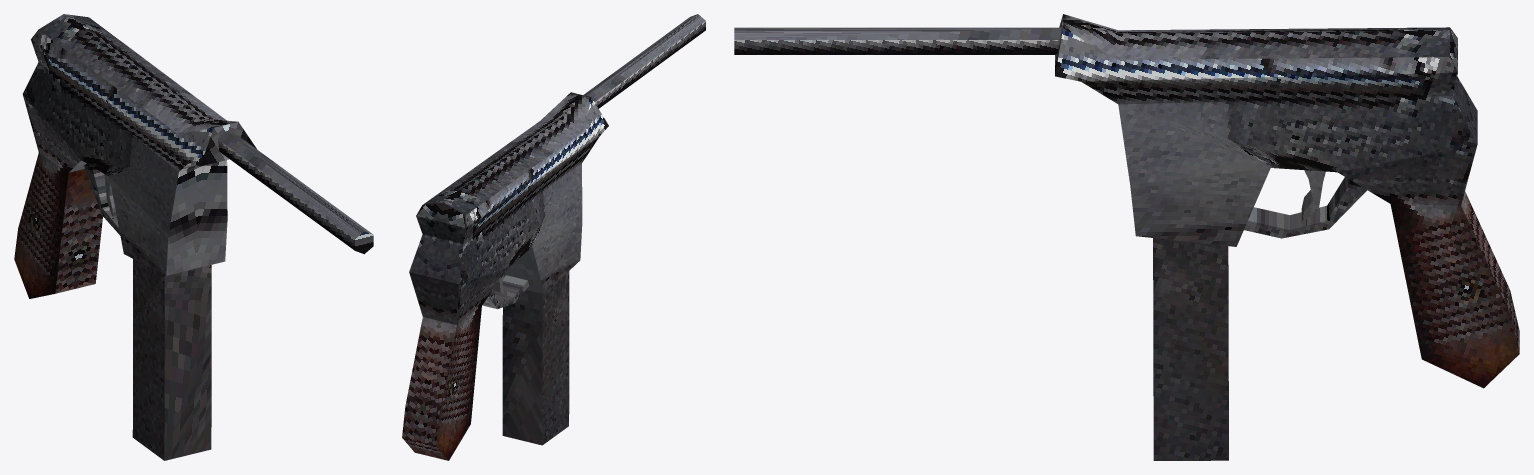
Rendered from mauser.glb.
3 views of the same model, side by side, from view 1: azimuth 30°, elevation 25°; view 2: azimuth 150°, elevation 25°; view 3: azimuth 270°, elevation 25° (orthographic). The views are drawn at different scales.
Visible parts, largest first — view 1: Mauser, MauserClip; view 2: Mauser, MauserClip; view 3: Mauser, MauserClip.
Boxes of the visible parts, <box> form: Mauser: <box>14,14,373,298</box>; MauserClip: <box>132,259,211,460</box>; Mauser: <box>402,14,705,460</box>; MauserClip: <box>502,271,569,445</box>; Mauser: <box>734,14,1519,388</box>; MauserClip: <box>1153,238,1228,460</box>.
Bounding box in the file's own units: 0.033 × 0.1917 × 0.32.
Materials: 2 (2 with a texture image).
